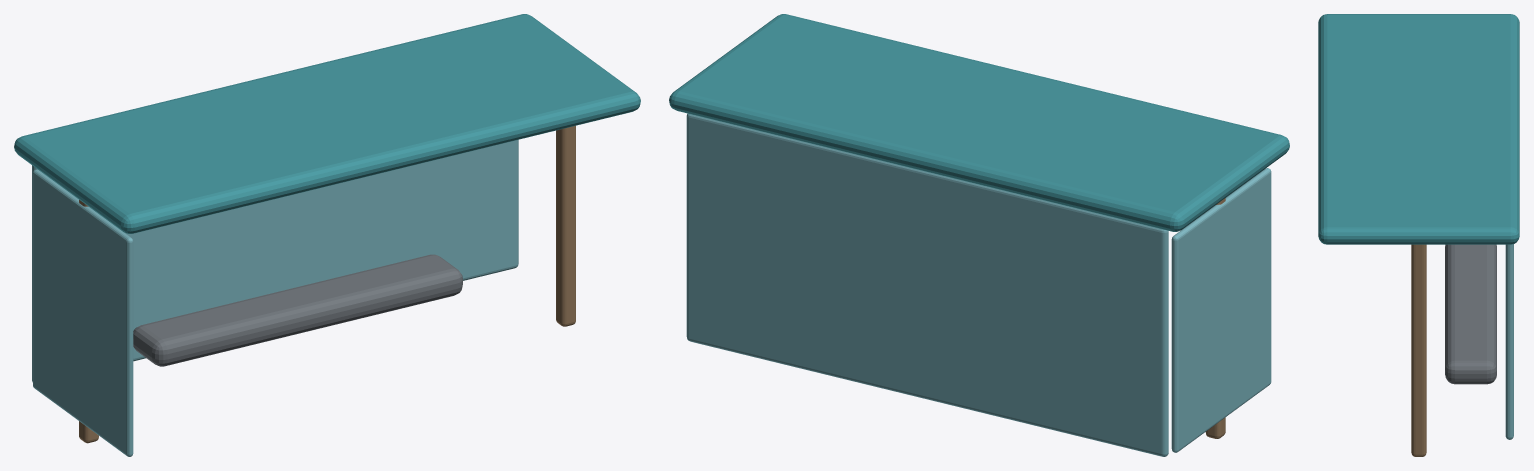
The picture shows the model from 3 angles, left to right: view 1: azimuth 30°, elevation 25°; view 2: azimuth 150°, elevation 25°; view 3: azimuth 270°, elevation 25°; orthographic projection. The views are drawn at different scales.
Visible parts, largest first — view 1: LOD0_SHELTER_TRANSIT_Roof, LOD0_SHELTER_TRANSIT_Back, LOD0_SHELTER_TRANSIT_SideGlass, LOD0_SHELTER_TRANSIT_Bench, LOD0_SHELTER_TRANSIT_Post.001; view 2: LOD0_SHELTER_TRANSIT_Back, LOD0_SHELTER_TRANSIT_Roof, LOD0_SHELTER_TRANSIT_SideGlass; view 3: LOD0_SHELTER_TRANSIT_Roof, LOD0_SHELTER_TRANSIT_Bench, LOD0_SHELTER_TRANSIT_Post.001, LOD0_SHELTER_TRANSIT_Back.
Boxes of the visible parts, x1,y1,x2,y2 form: LOD0_SHELTER_TRANSIT_Roof: (14, 14, 640, 233); LOD0_SHELTER_TRANSIT_Back: (32, 139, 518, 382); LOD0_SHELTER_TRANSIT_SideGlass: (33, 169, 133, 456); LOD0_SHELTER_TRANSIT_Bench: (133, 254, 462, 366); LOD0_SHELTER_TRANSIT_Post.001: (556, 125, 575, 326); LOD0_SHELTER_TRANSIT_Back: (686, 113, 1168, 456); LOD0_SHELTER_TRANSIT_Roof: (669, 14, 1289, 231); LOD0_SHELTER_TRANSIT_SideGlass: (1171, 168, 1271, 452); LOD0_SHELTER_TRANSIT_Roof: (1318, 14, 1519, 244); LOD0_SHELTER_TRANSIT_Bench: (1445, 244, 1496, 384); LOD0_SHELTER_TRANSIT_Post.001: (1411, 244, 1426, 456); LOD0_SHELTER_TRANSIT_Back: (1505, 244, 1513, 439).
Size of what is drawn, in the model's own units: 6.2 by 3.06 by 2.4.
